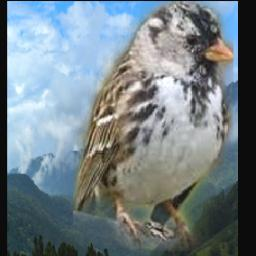Sparrow: (73, 1, 233, 251)
